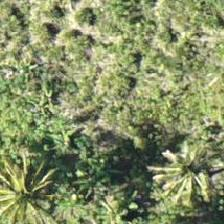Kelapa_Sawit: (146, 130, 223, 221)
